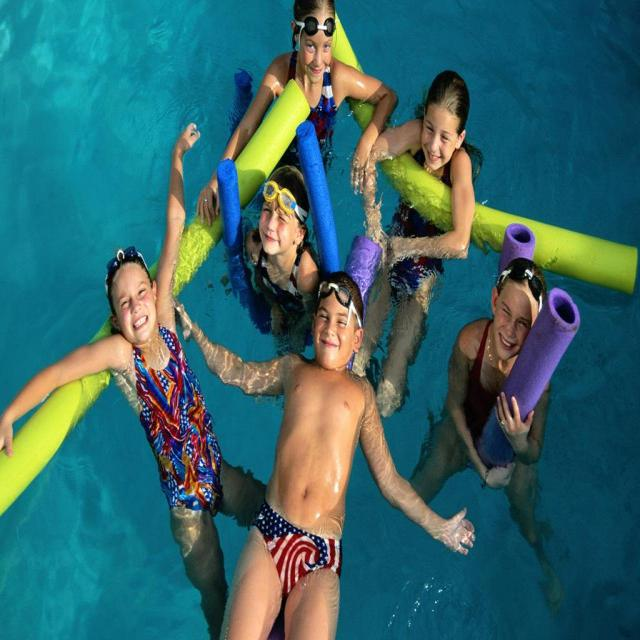nomask: (492, 286, 532, 360), (298, 8, 338, 82), (114, 270, 156, 338), (255, 182, 293, 254), (423, 98, 458, 174), (310, 294, 352, 356)
